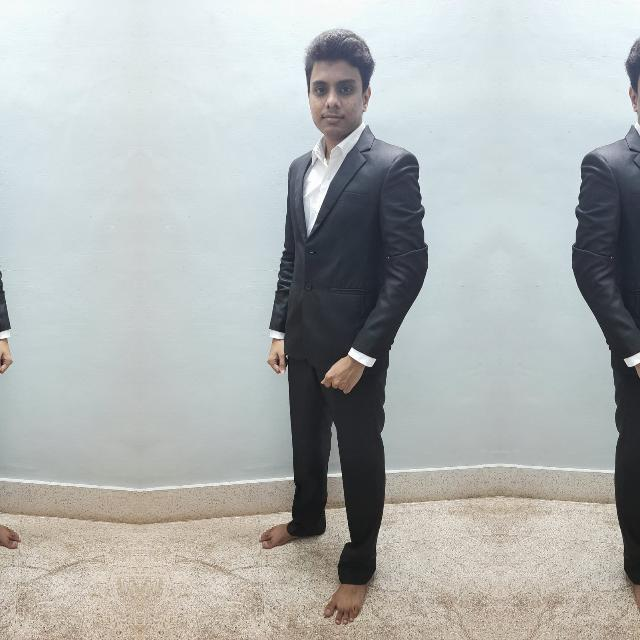person: (255, 20, 431, 626), (568, 20, 640, 625), (0, 20, 23, 625)
